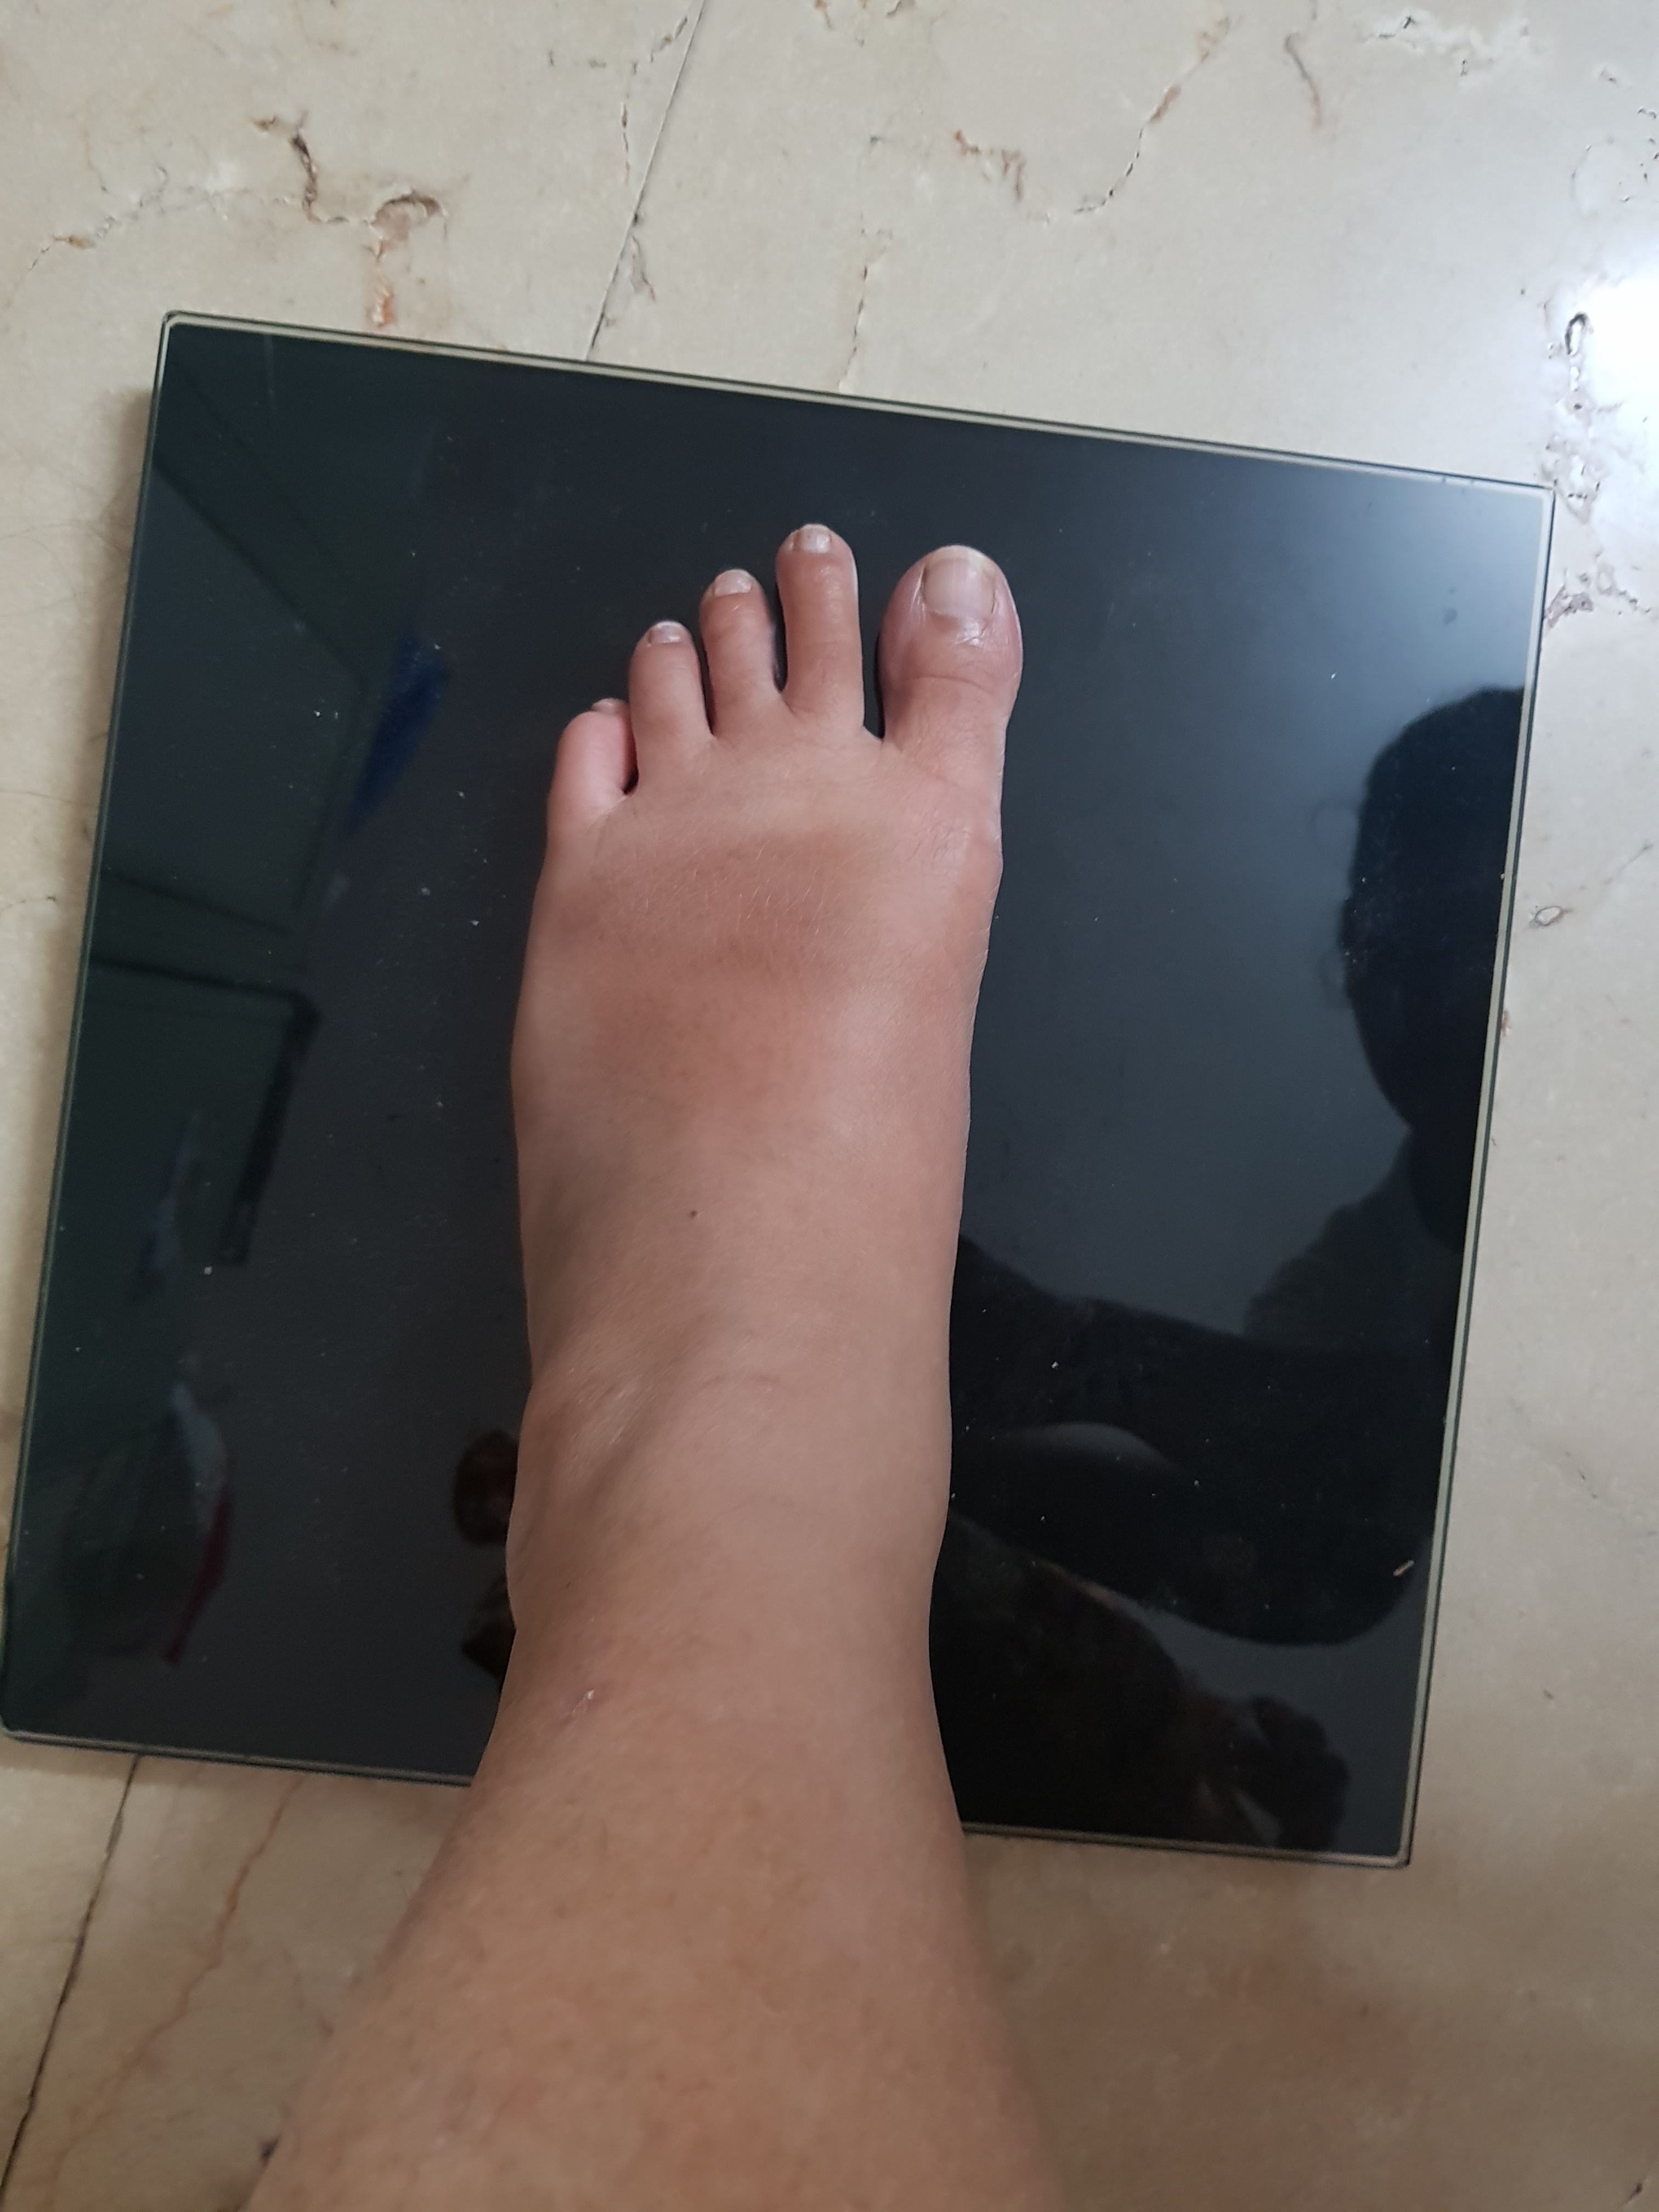feet: (446, 493, 1026, 1696)
